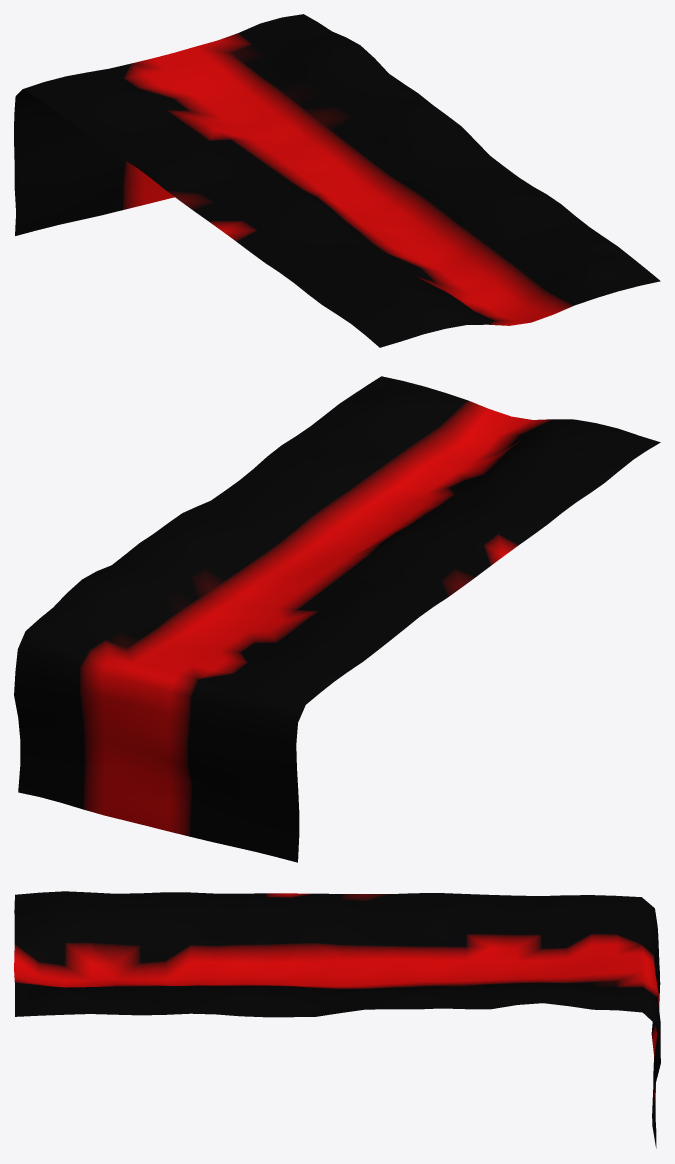
Rendered from Plataforma_1.fbx.
The picture shows the model from 3 angles, top to bottom: view 1: azimuth 30°, elevation 25°; view 2: azimuth 150°, elevation 25°; view 3: azimuth 270°, elevation 25°; orthographic projection. The views are drawn at different scales.
Visible parts, largest first — view 1: Object001; view 2: Object001; view 3: Object001.
Part boxes in pixels (box(x1,y1,x2,y2)): Object001: box(14, 14, 660, 347); Object001: box(14, 376, 660, 862); Object001: box(14, 891, 660, 1148).
Size of the model in its own units: 2043 by 1190 by 4601.
